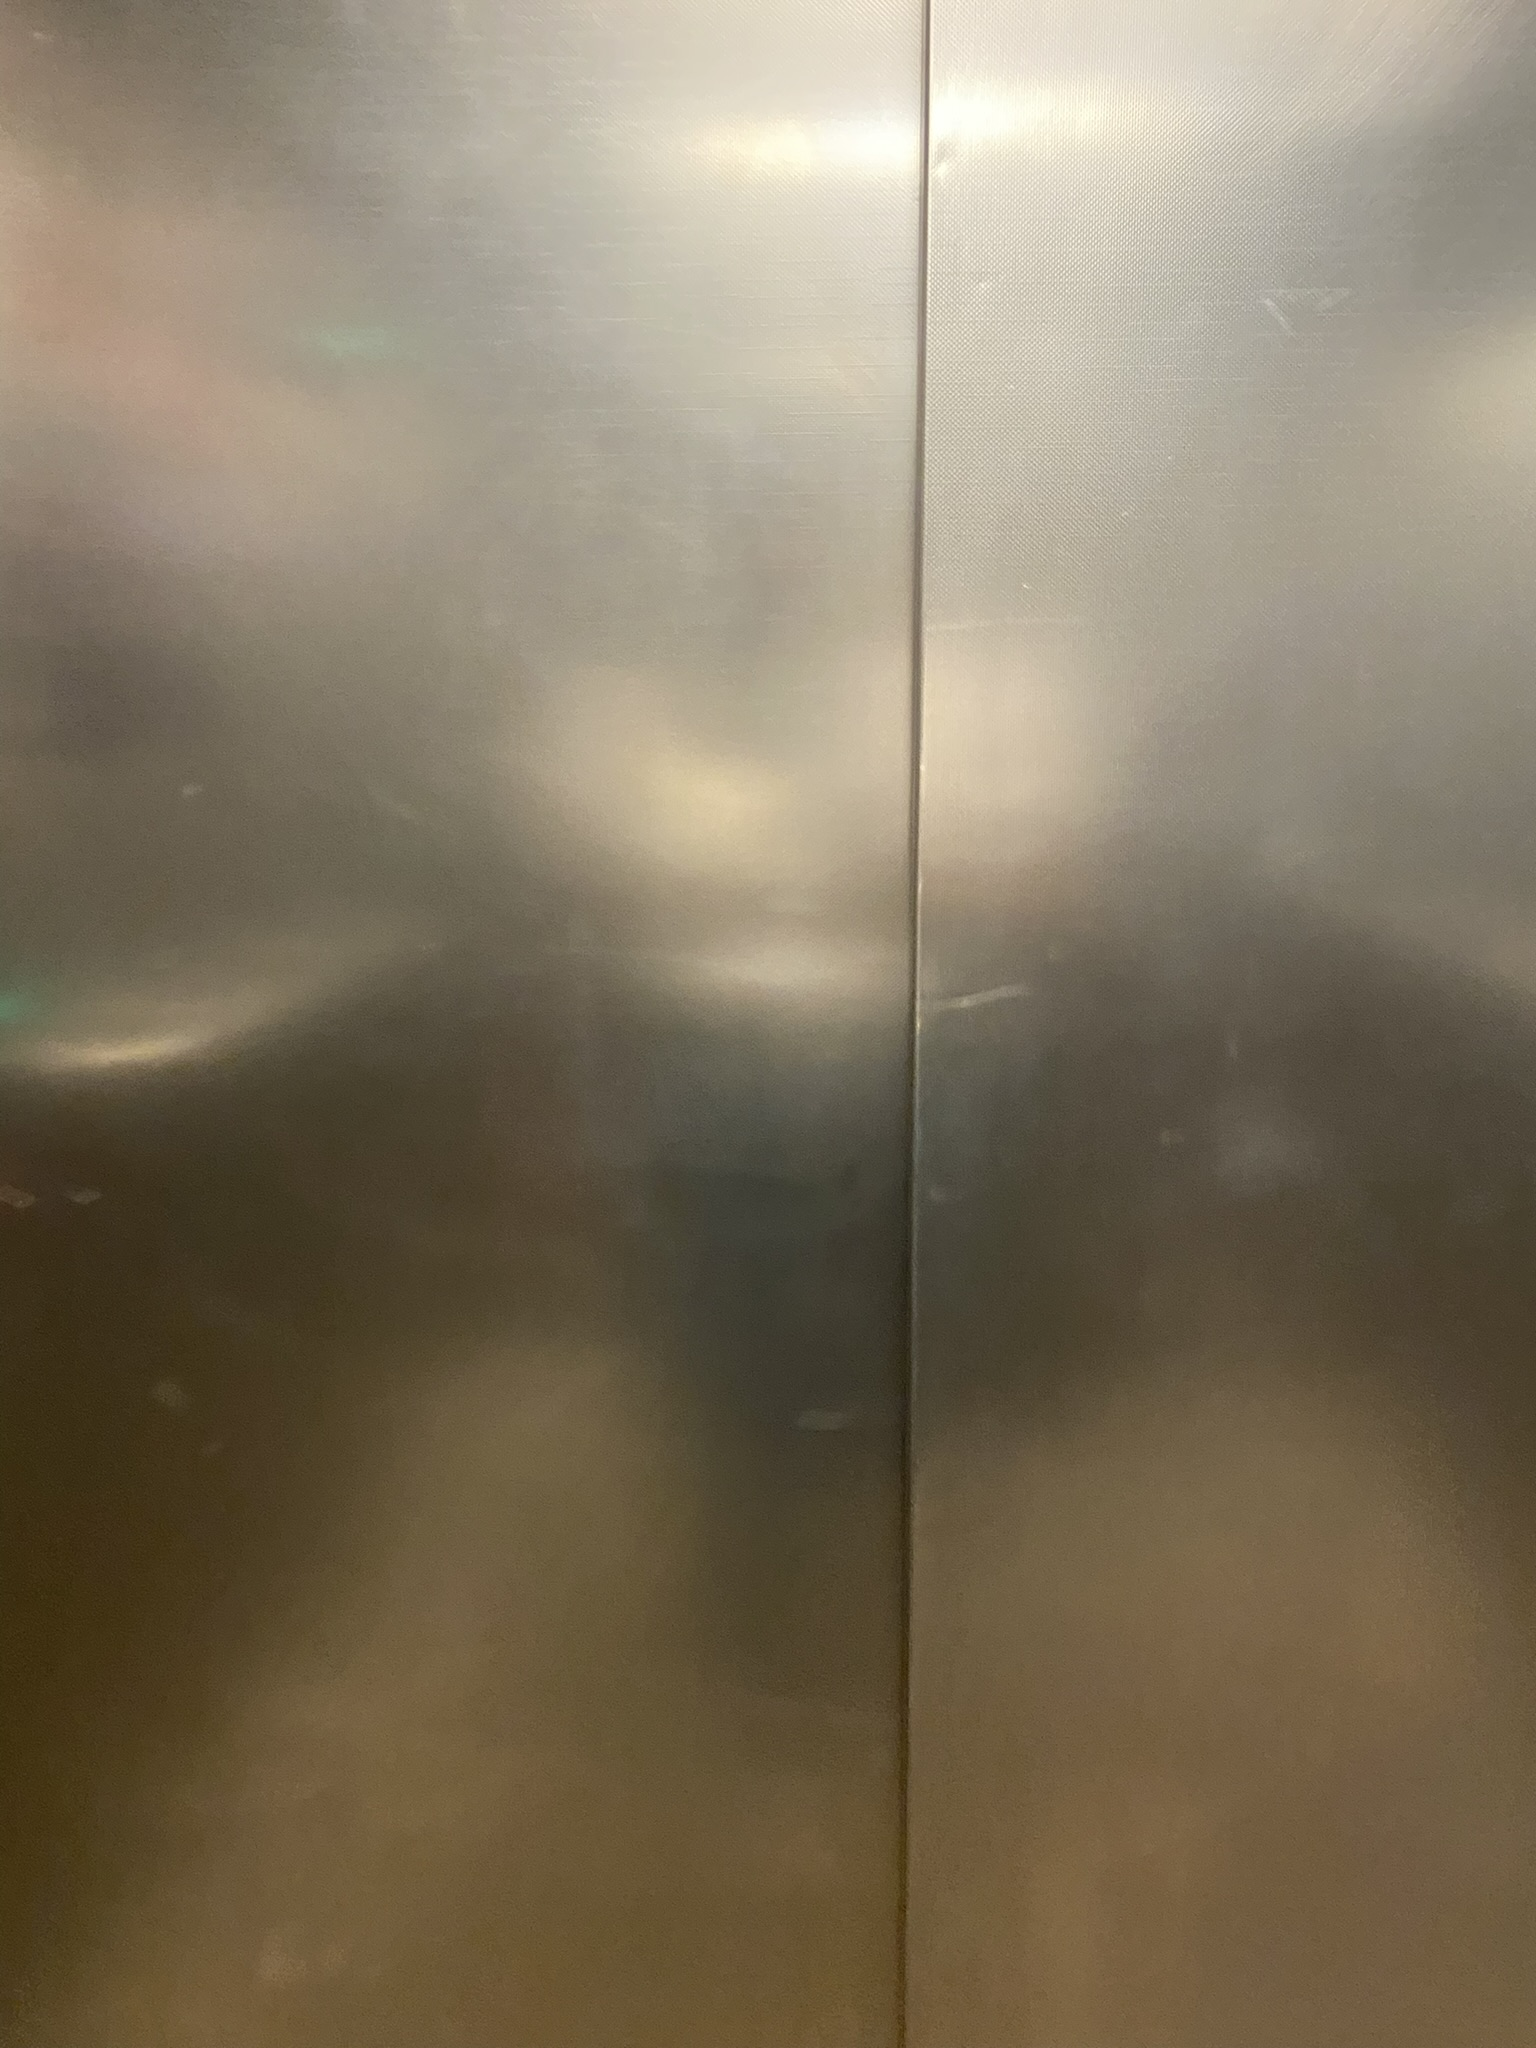lift door: (10, 35, 1536, 1563)
